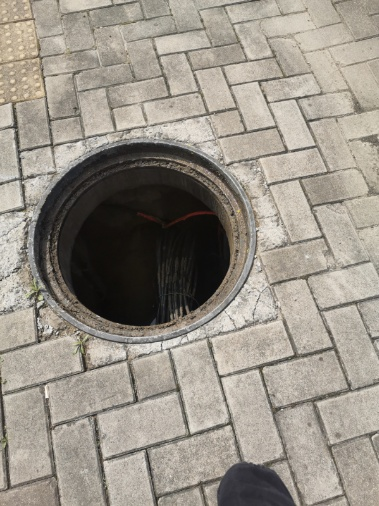lose: (25, 138, 257, 346)
